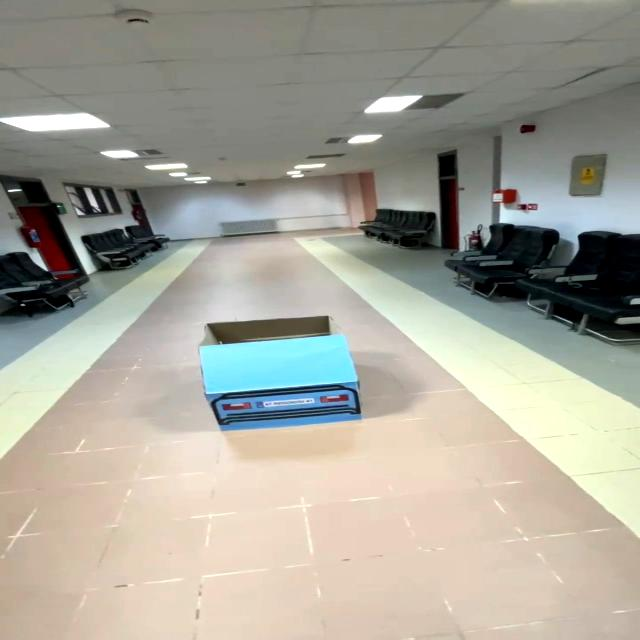blue_car: (155, 306, 386, 444)
